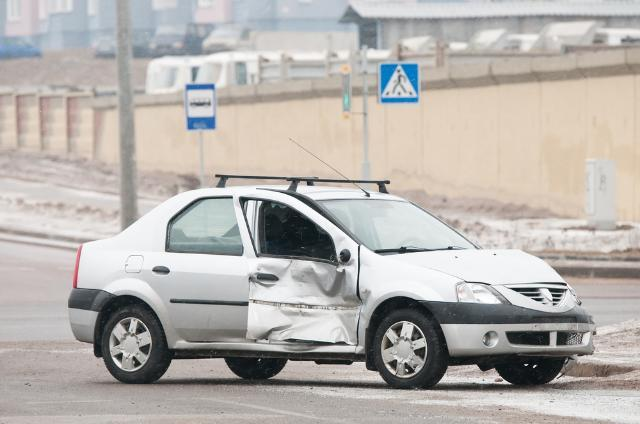dent: (249, 261, 364, 345)
no part: (565, 280, 597, 357)
